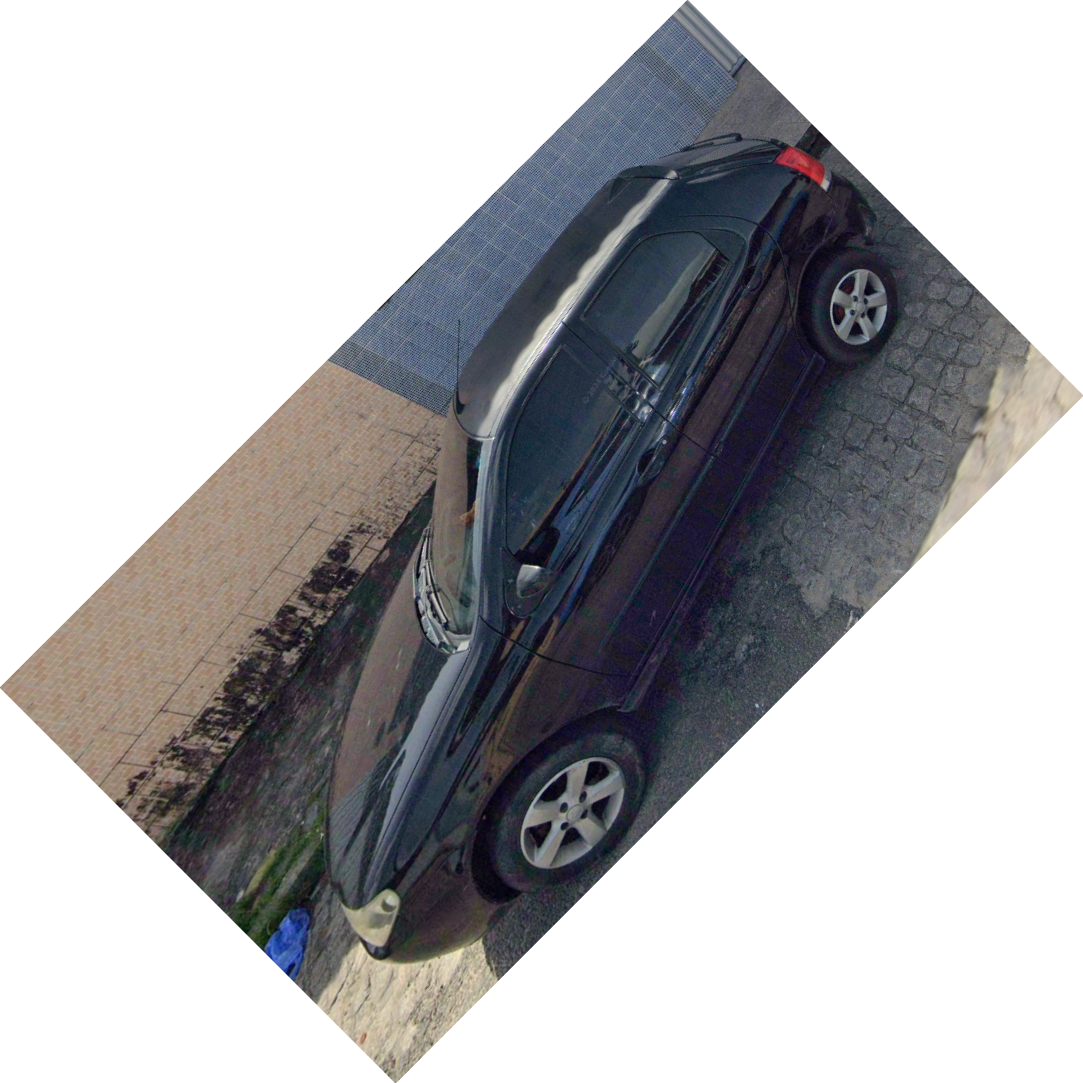car: (324, 137, 898, 966)
